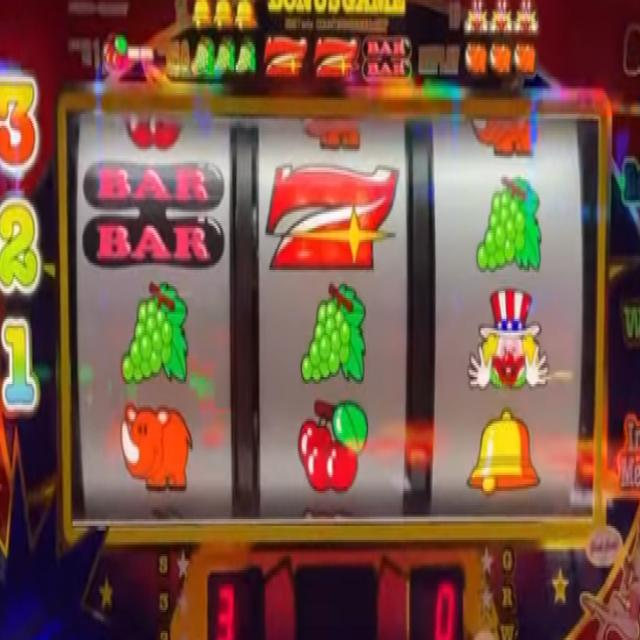bar: (81, 160, 226, 268), (361, 36, 413, 80)
bell: (467, 408, 542, 495), (513, 1, 538, 36), (464, 0, 489, 34), (490, 1, 512, 34), (191, 0, 212, 31), (212, 0, 233, 31), (235, 0, 256, 30)
cherry: (296, 396, 368, 493), (124, 109, 183, 150), (103, 34, 127, 69)
clown: (466, 286, 549, 394)
display: (66, 104, 600, 522)
elephant: (120, 400, 193, 491), (471, 114, 538, 156), (303, 111, 362, 153), (489, 39, 512, 75), (465, 40, 488, 74), (514, 42, 537, 76)
grape: (119, 277, 188, 385), (299, 281, 367, 385), (475, 172, 543, 274), (192, 34, 214, 73), (234, 40, 257, 76), (214, 39, 233, 74)
z: (266, 163, 399, 273), (313, 34, 360, 79), (264, 34, 307, 76)
